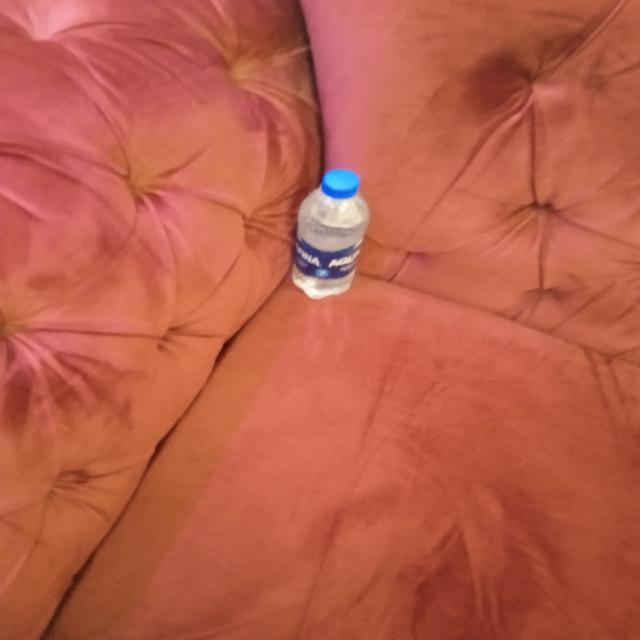Plastic: (300, 170, 368, 298)
